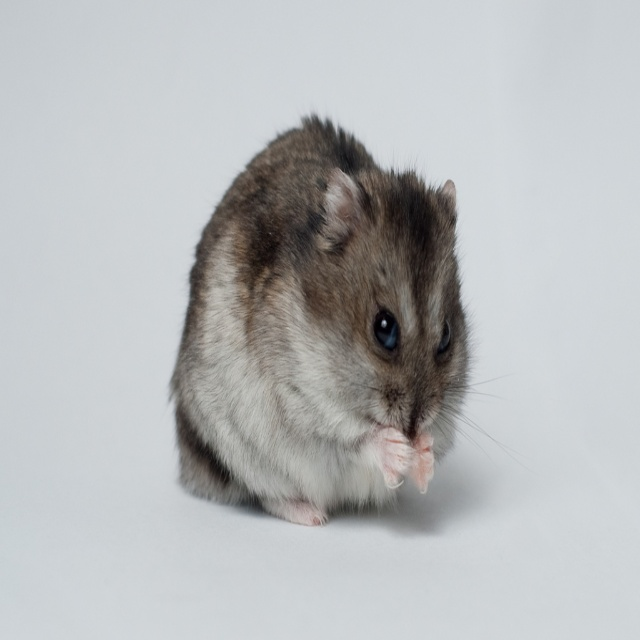Mouse: (170, 114, 504, 514)
